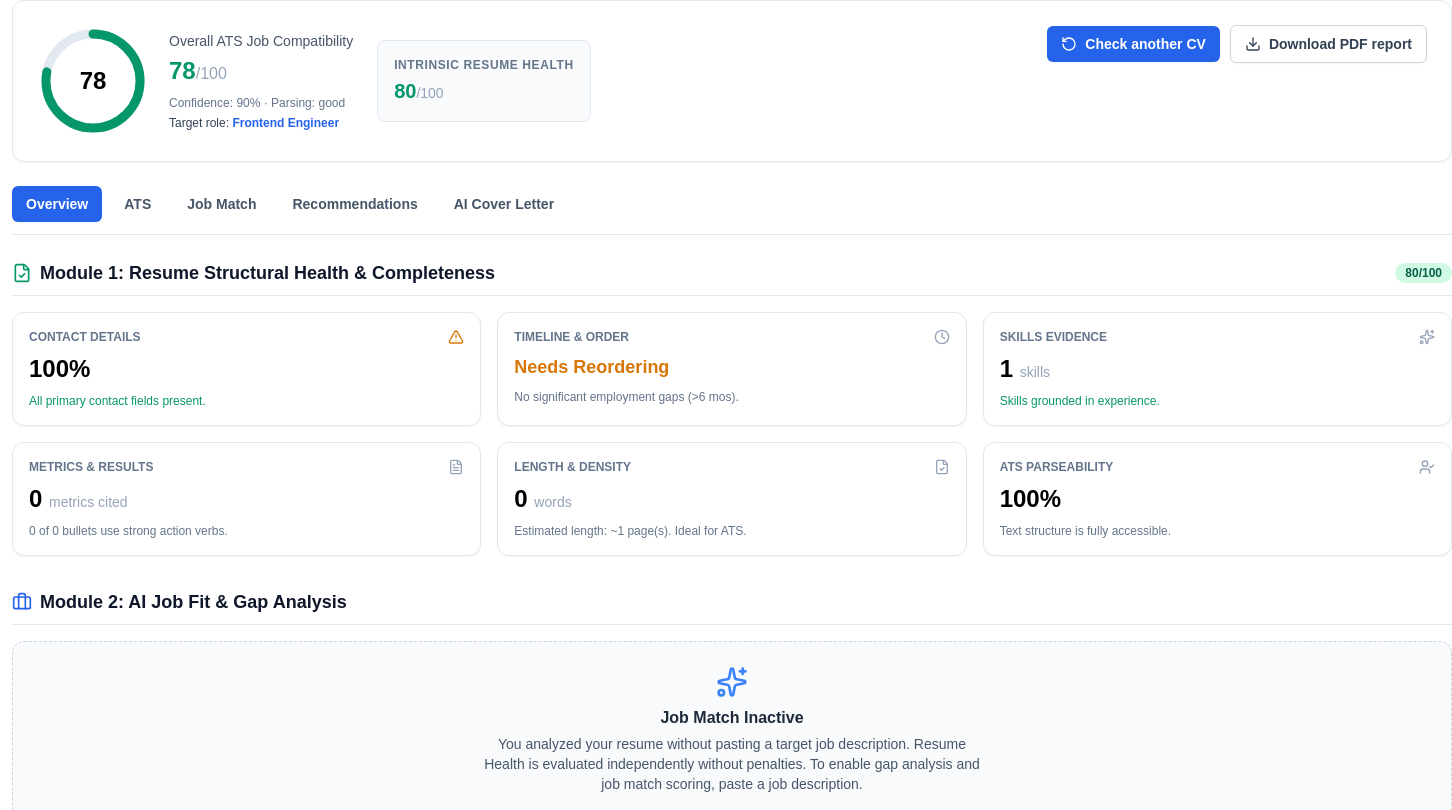
Test: results dashboard › renders the redesigned AI Cover Letter tab with two clear buttons (Job-Tailored & General)
This screenshot has width=1452, height=810.
Click the tab "AI Cover Letter" at (504, 204), box [440, 186, 568, 222]
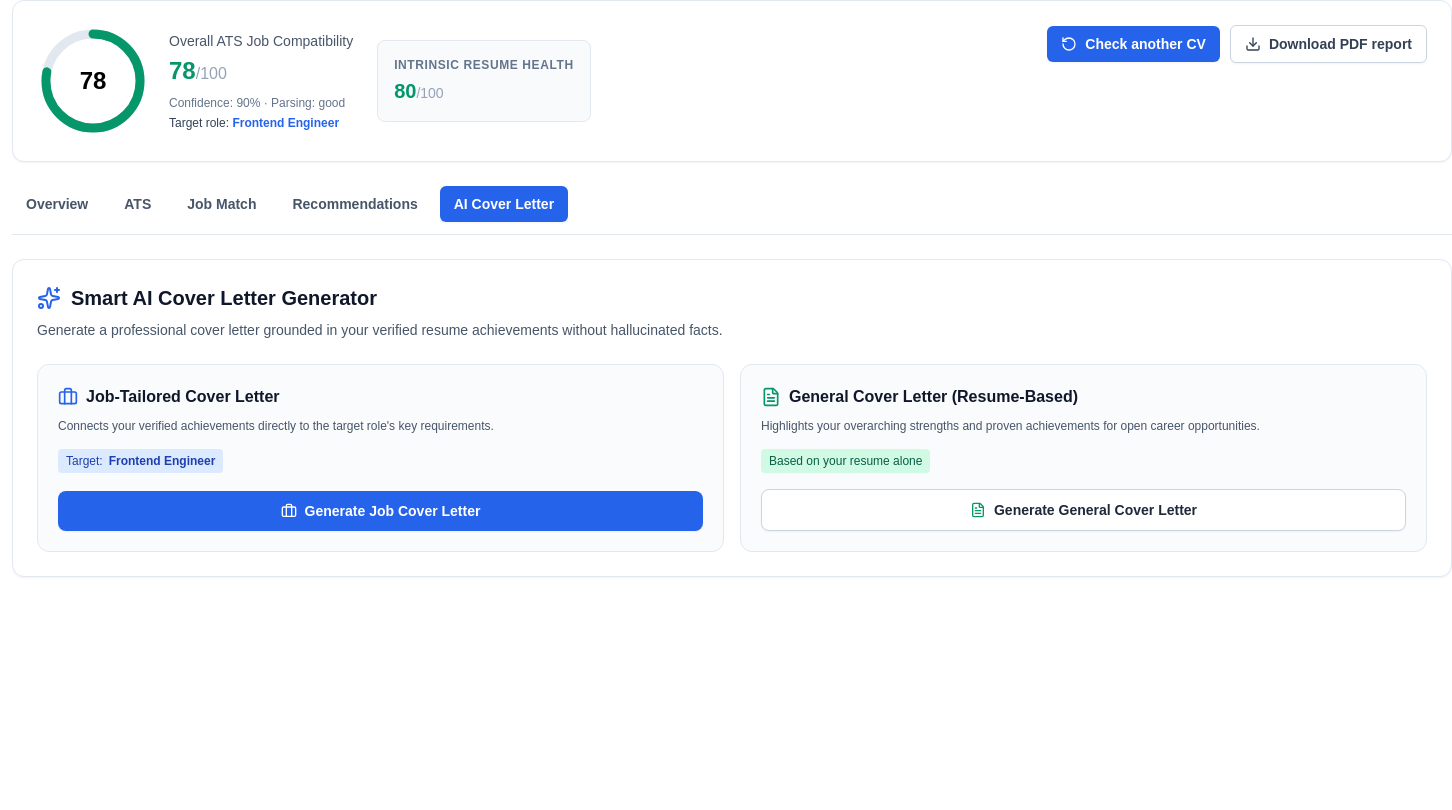
Expected: the button "Generate Job Cover Letter" is enabled, [58, 490, 703, 530]
Expected: the button "Generate General Cover Letter" is enabled, [761, 488, 1406, 530]
